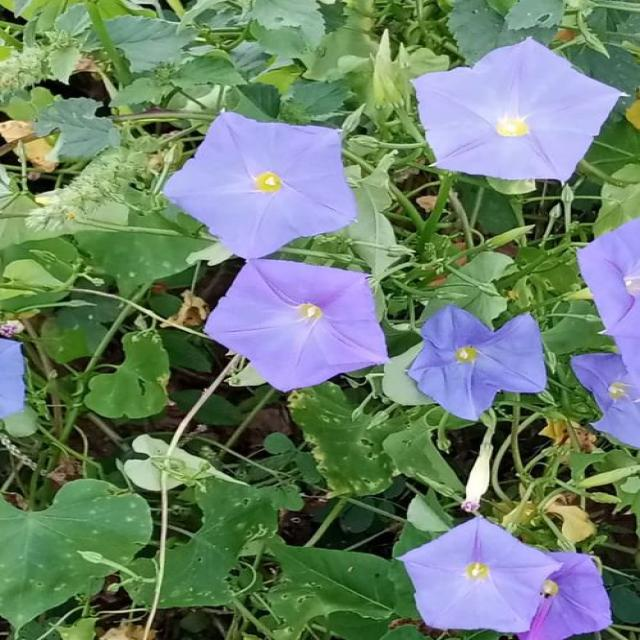ipomoea: (406, 35, 628, 186), (159, 108, 361, 262), (200, 256, 392, 396), (392, 514, 563, 636), (402, 302, 550, 424)
